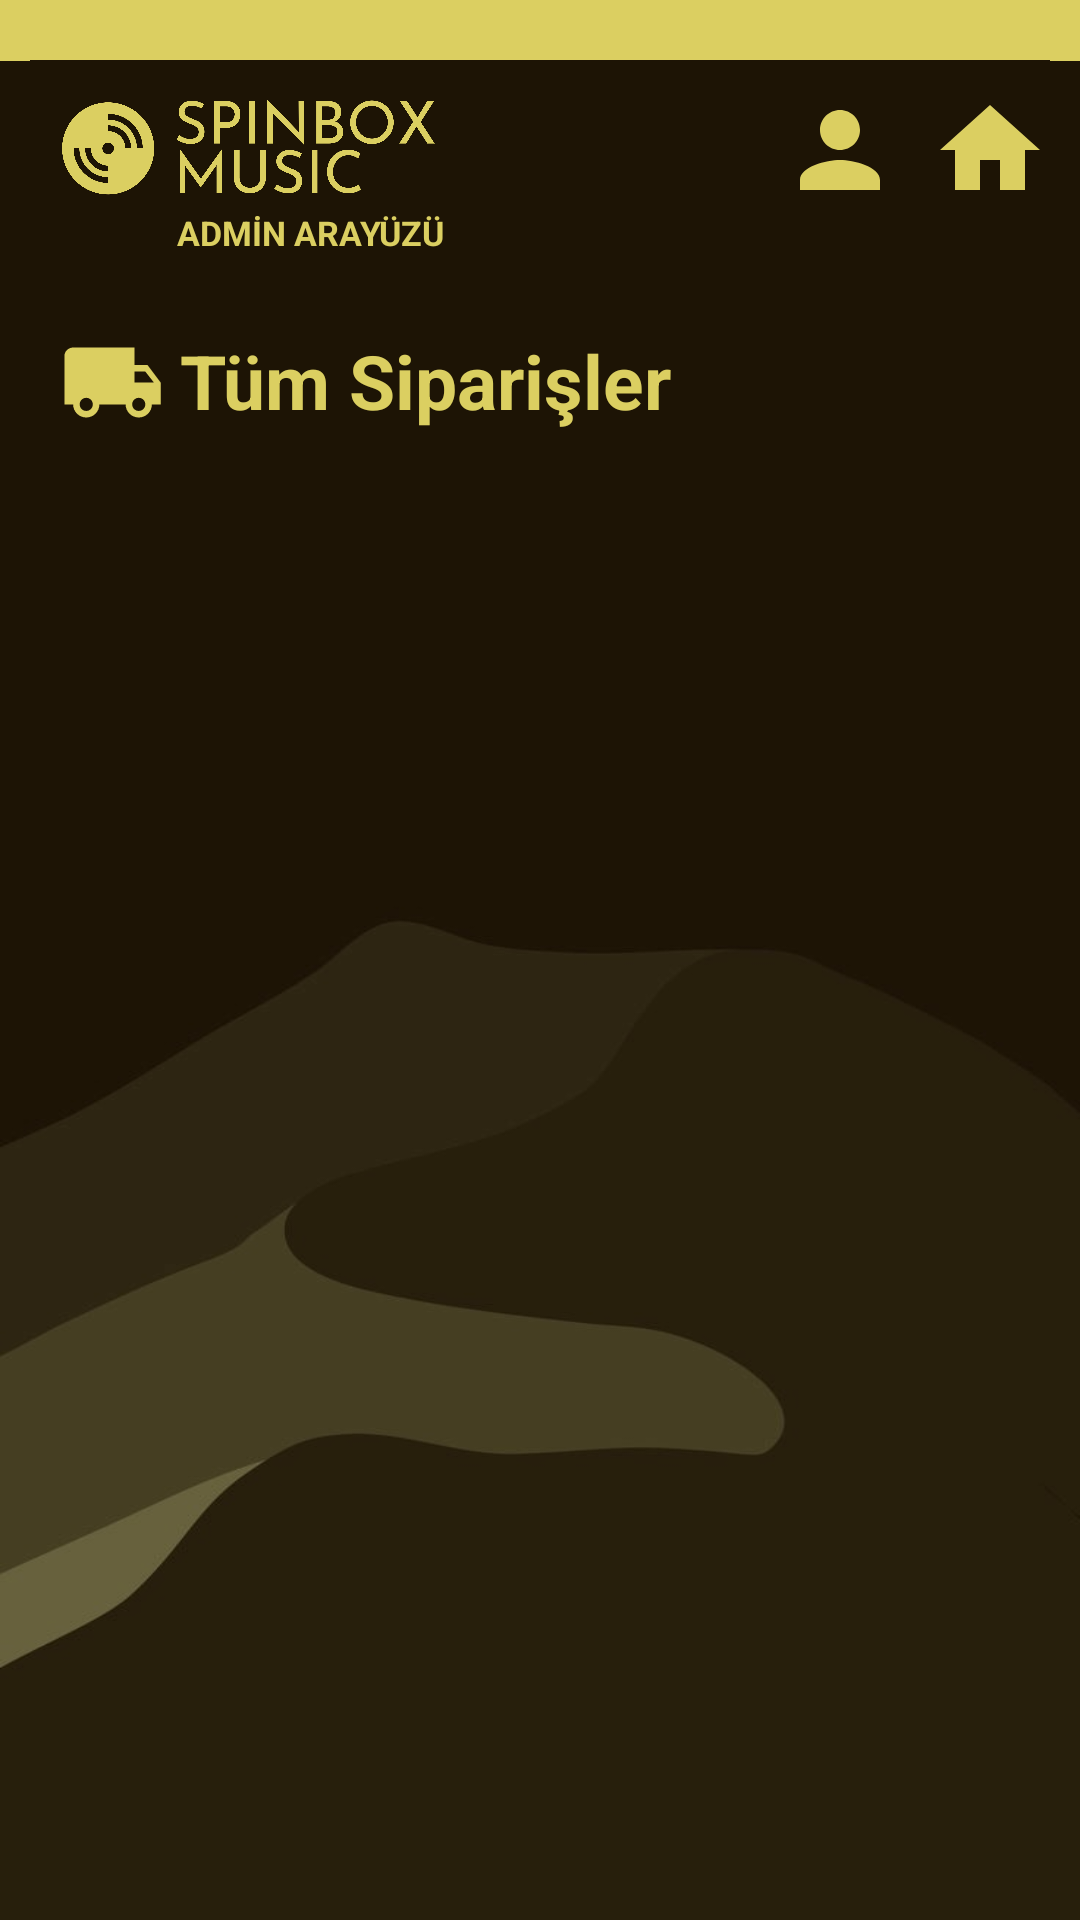

Icon bounding boxes for this 1080 x 1920 phone screenshot, format (x1, y1, x2, y2):
home: (940, 105, 1040, 190)
local shipping: (64, 347, 161, 418)
person: (800, 110, 880, 190)
